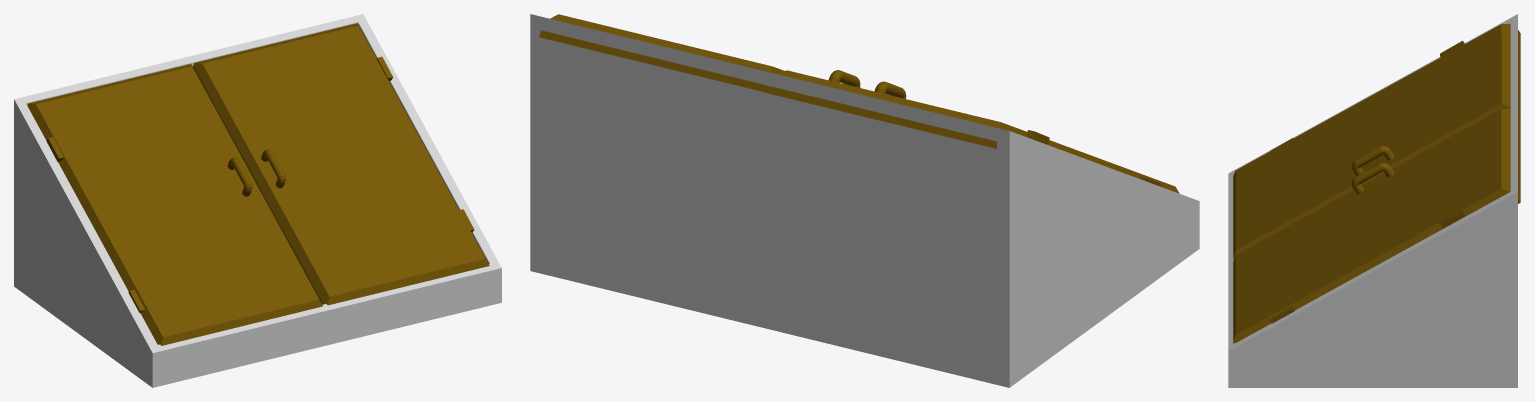
File: DUMMYcellardoorNOANIM.dae
The picture shows the model from 3 angles, left to right: view 1: azimuth 30°, elevation 25°; view 2: azimuth 150°, elevation 25°; view 3: azimuth 270°, elevation 25°; orthographic projection. The views are drawn at different scales.
Parts seen in each view (by area): view 1: Cube_002, Cube_003, Cube; view 2: Cube, Cube_003, Cube_002; view 3: Cube, Cube_002, Cube_003.
Part boxes in pixels (left/top/right/bottom): Cube_002: left=193, top=23, right=489, bottom=305; Cube_003: left=27, top=64, right=322, bottom=345; Cube: left=14, top=14, right=501, bottom=387; Cube: left=530, top=14, right=1199, bottom=387; Cube_003: left=767, top=70, right=1179, bottom=193; Cube_002: left=539, top=14, right=860, bottom=92; Cube: left=1228, top=14, right=1517, bottom=387; Cube_002: left=1233, top=109, right=1520, bottom=343; Cube_003: left=1233, top=24, right=1520, bottom=258.
Size of the model in its own units: 5.4 by 3.75 by 2.77.
